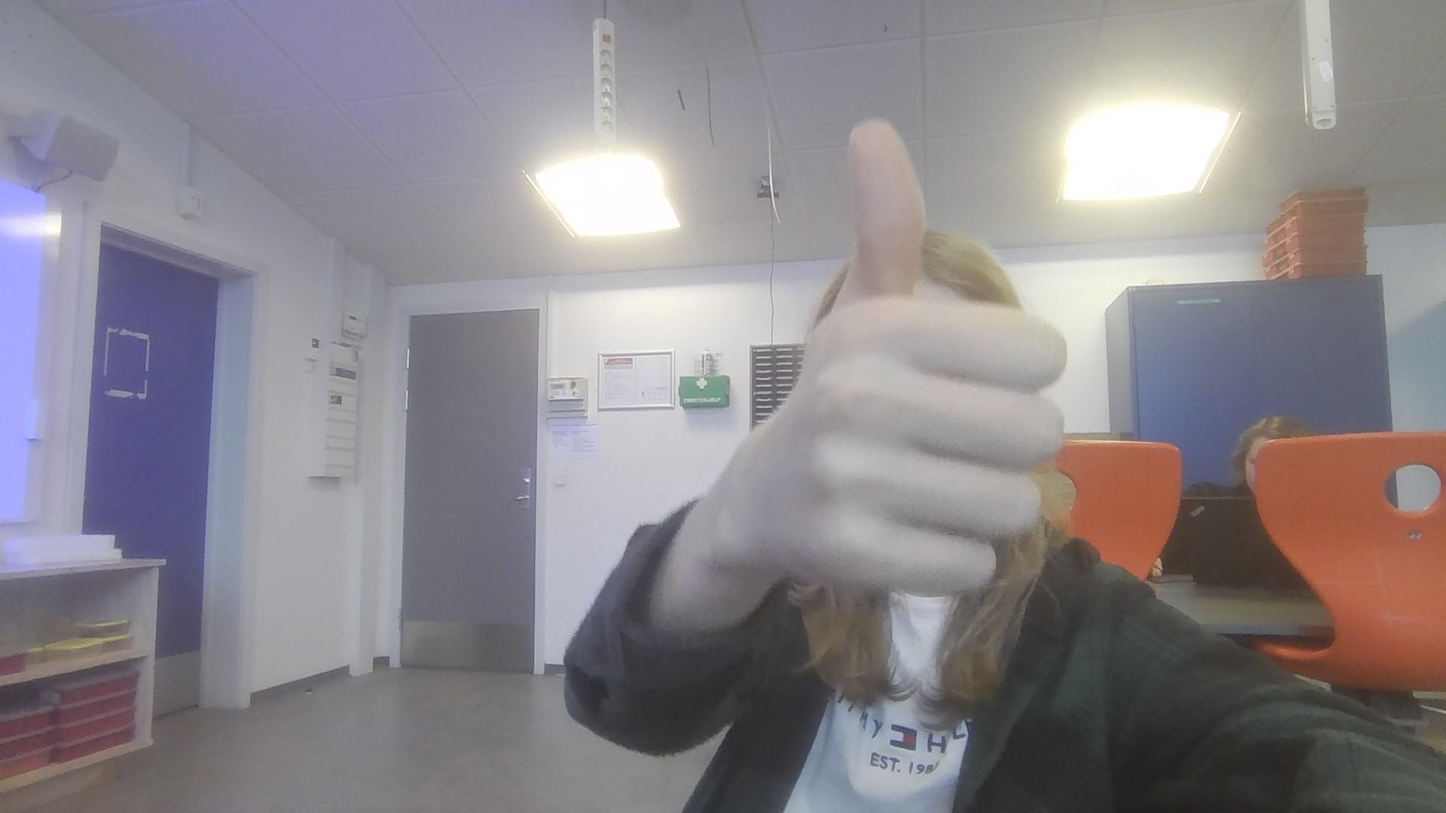thumbs up: (783, 117, 1069, 606)
